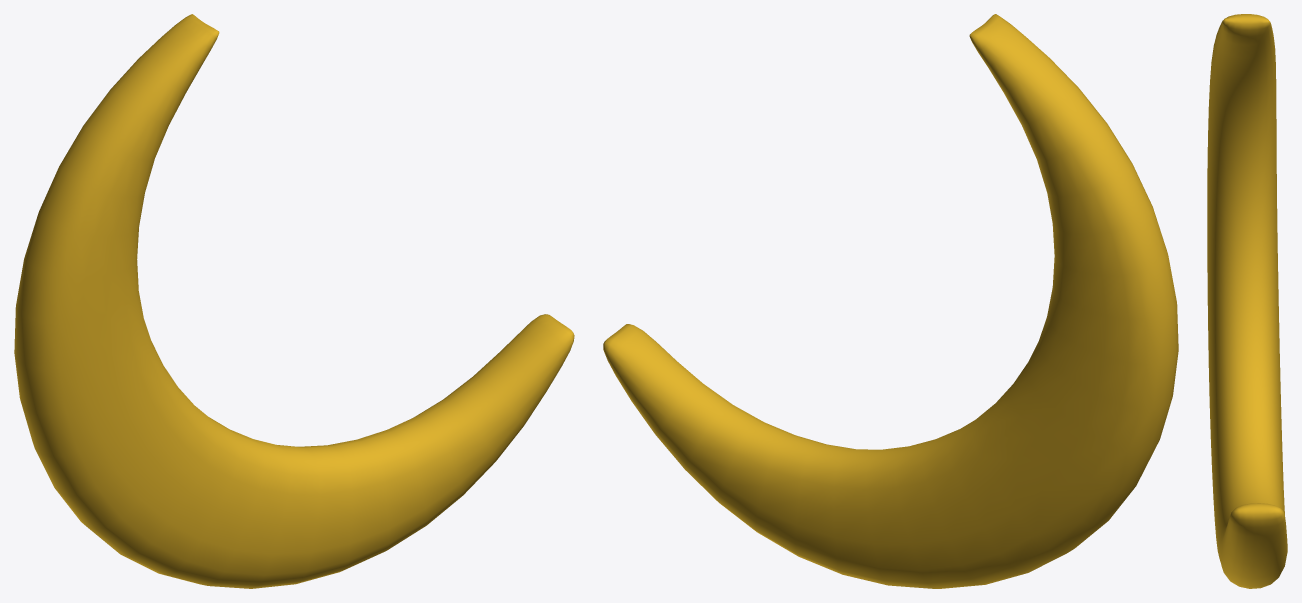
File: moon FBX.glb
3 views of the same model, side by side, from view 1: azimuth 30°, elevation 25°; view 2: azimuth 150°, elevation 25°; view 3: azimuth 270°, elevation 25° (orthographic). The views are drawn at different scales.
Parts seen in each view (by area): view 1: Group11658; view 2: Group11658; view 3: Group11658.
Boxes of the visible parts, x1,y1,x2,y2 form: Group11658: [14, 14, 574, 588]; Group11658: [603, 14, 1178, 588]; Group11658: [1207, 14, 1287, 588].
Size of the model in its own units: 0.8911 by 0.8962 by 0.1306.
